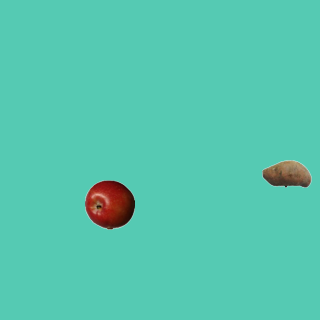Apple Braeburn: (84, 179, 134, 229)
Potato Sweet: (261, 148, 311, 198)
